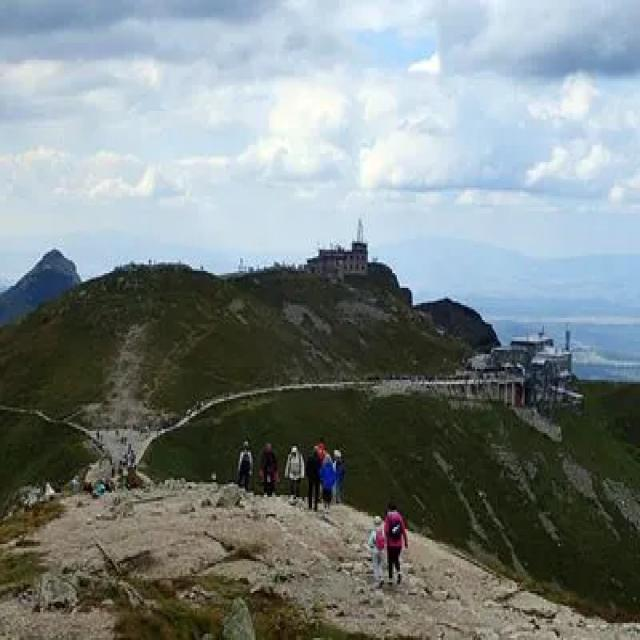Kasprowy Wierch: (247, 145, 619, 486)
